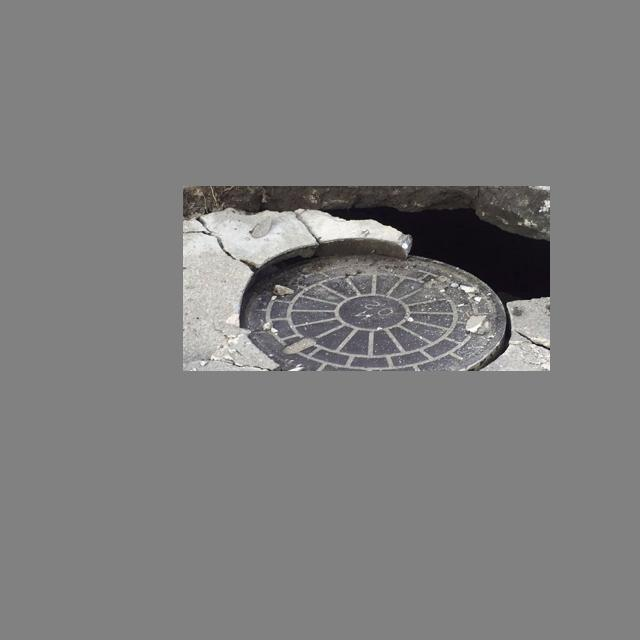circle: (188, 193, 545, 368)
